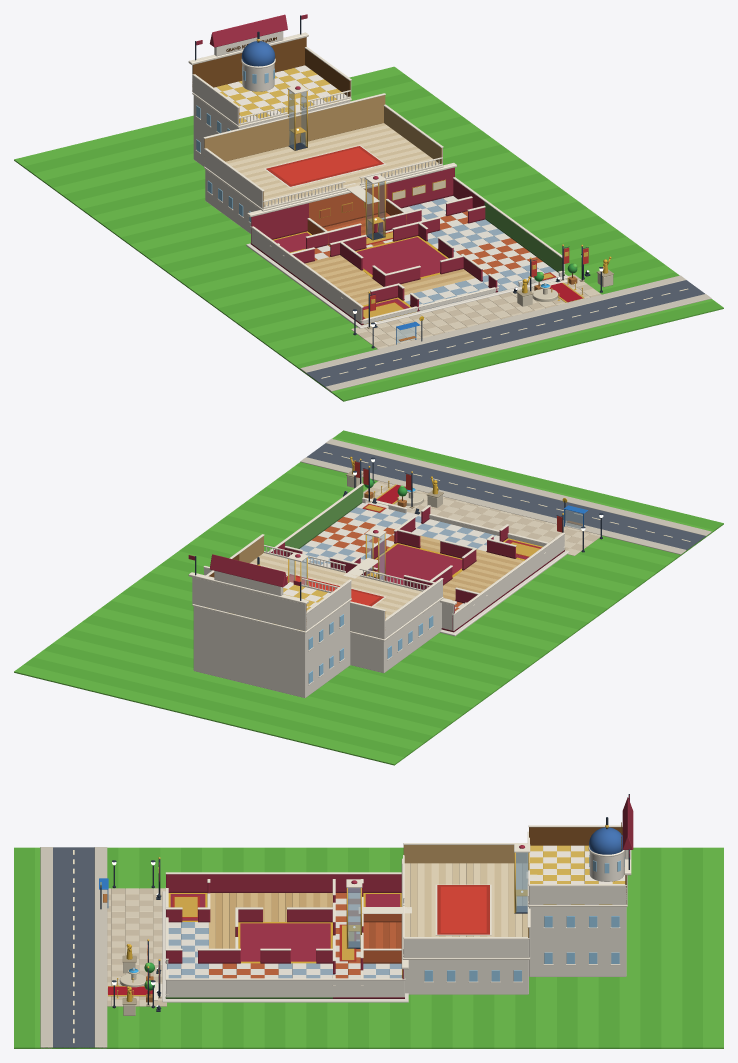
The model's file is shell.glb.
3 renders of one model, top to bottom at view 1: azimuth 30°, elevation 25°; view 2: azimuth 150°, elevation 25°; view 3: azimuth 270°, elevation 25°, orthographic. The views are drawn at different scales.
Parts seen in each view (by area): view 1: grounds, building, floor_hall_of_antiquities, floor_sculpture_terrace, crown, lift_hall_of_antiquities, grand_2, lift_sculpture_terrace, dome, grand_4; view 2: grounds, building, floor_sculpture_terrace, floor_hall_of_antiquities, crown, lift_hall_of_antiquities, grand_2, grand_4; view 3: grounds, building, floor_hall_of_antiquities, floor_sculpture_terrace, crown, lift_hall_of_antiquities, lift_sculpture_terrace, dome, grand_2, grand_4, grand_3.
Part boxes in pixels (<box>): grounds: <box>14,66,723,401</box>; building: <box>246,167,568,328</box>; floor_hall_of_antiquities: <box>203,93,443,233</box>; floor_sculpture_terrace: <box>192,37,351,166</box>; crown: <box>188,14,456,217</box>; lift_hall_of_antiquities: <box>343,174,386,240</box>; grand_2: <box>367,244,588,328</box>; lift_sculpture_terrace: <box>285,84,308,150</box>; dome: <box>241,41,275,66</box>; grand_4: <box>516,256,613,306</box>; grounds: <box>14,430,723,765</box>; building: <box>268,483,569,636</box>; floor_sculpture_terrace: <box>192,552,351,697</box>; floor_hall_of_antiquities: <box>203,534,443,673</box>; crown: <box>188,554,456,605</box>; lift_hall_of_antiquities: <box>343,528,386,580</box>; grand_2: <box>354,458,565,549</box>; grand_4: <box>346,456,443,507</box>; grounds: <box>14,847,723,1048</box>; building: <box>154,872,408,1002</box>; floor_hall_of_antiquities: <box>402,831,530,994</box>; floor_sculpture_terrace: <box>528,825,627,976</box>; crown: <box>401,794,633,969</box>; lift_hall_of_antiquities: <box>346,879,411,948</box>; lift_sculpture_terrace: <box>514,844,537,913</box>; dome: <box>589,827,622,854</box>; grand_2: <box>144,857,161,1006</box>; grand_4: <box>122,944,136,1015</box>; grand_3: <box>108,893,161,1011</box>.
Bounding box in the file's own units: 34 × 10.53 × 51.
